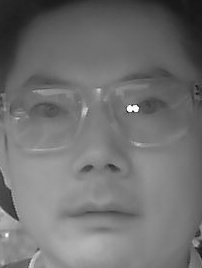glass: (107, 76, 192, 145), (7, 88, 88, 149)
mouth: (60, 193, 139, 237)
